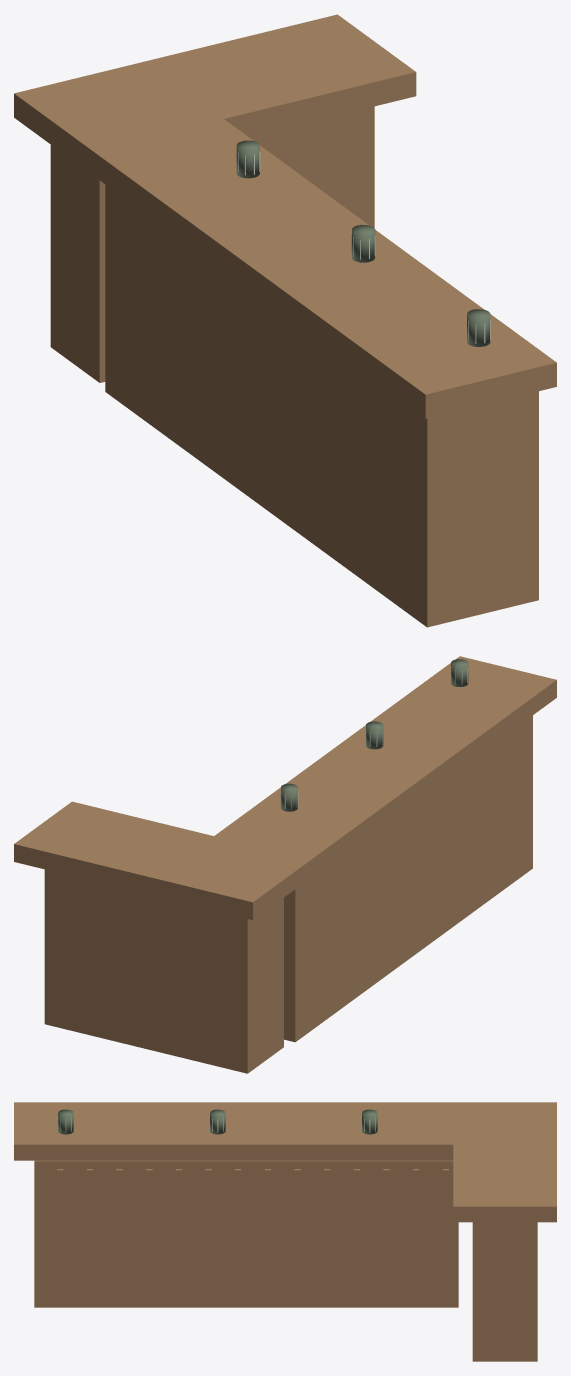
The model's file is yokocho-listening-counter.glb.
3 views of the same model, one above another, from view 1: azimuth 30°, elevation 25°; view 2: azimuth 150°, elevation 25°; view 3: azimuth 270°, elevation 25° (orthographic). The views are drawn at different scales.
Visible parts, largest first — view 1: Shops/S07/Personality/RightAngleListeningBar__Night_Walnut, Shops/S07/Personality/RightAngleListeningBar__Night_SmokyGla; view 2: Shops/S07/Personality/RightAngleListeningBar__Night_Walnut, Shops/S07/Personality/RightAngleListeningBar__Night_SmokyGla; view 3: Shops/S07/Personality/RightAngleListeningBar__Night_Walnut, Shops/S07/Personality/RightAngleListeningBar__DarkTimber, Shops/S07/Personality/RightAngleListeningBar__Night_SmokyGla.
Boxes of the visible parts, x1,y1,x2,y2 form: Shops/S07/Personality/RightAngleListeningBar__Night_Walnut: (14,14,556,627); Shops/S07/Personality/RightAngleListeningBar__Night_SmokyGla: (236,140,490,346); Shops/S07/Personality/RightAngleListeningBar__Night_Walnut: (14,656,556,1073); Shops/S07/Personality/RightAngleListeningBar__Night_SmokyGla: (281,659,468,811); Shops/S07/Personality/RightAngleListeningBar__Night_Walnut: (14,1102,556,1361); Shops/S07/Personality/RightAngleListeningBar__DarkTimber: (57,1169,448,1294); Shops/S07/Personality/RightAngleListeningBar__Night_SmokyGla: (58,1109,377,1134).
Bounding box in the file's own units: 1.33 × 1.09 × 2.93.
